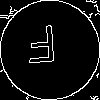F: (25, 25, 59, 73)
